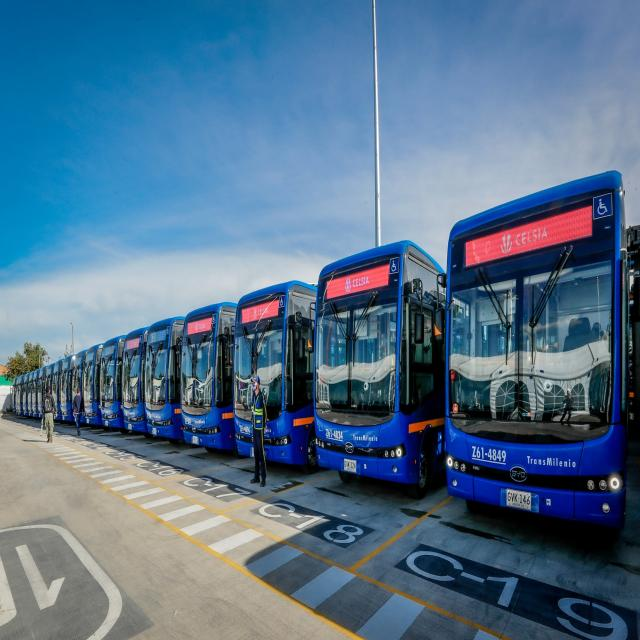BUS: (444, 166, 636, 558), (313, 230, 417, 544), (238, 288, 307, 499), (182, 309, 225, 487), (138, 309, 178, 438), (97, 338, 128, 428), (42, 358, 70, 417)
